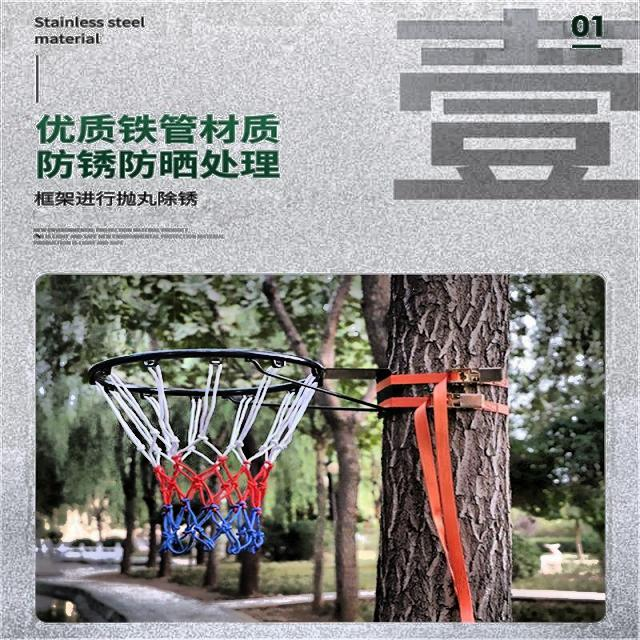rim: (88, 349, 322, 554)
